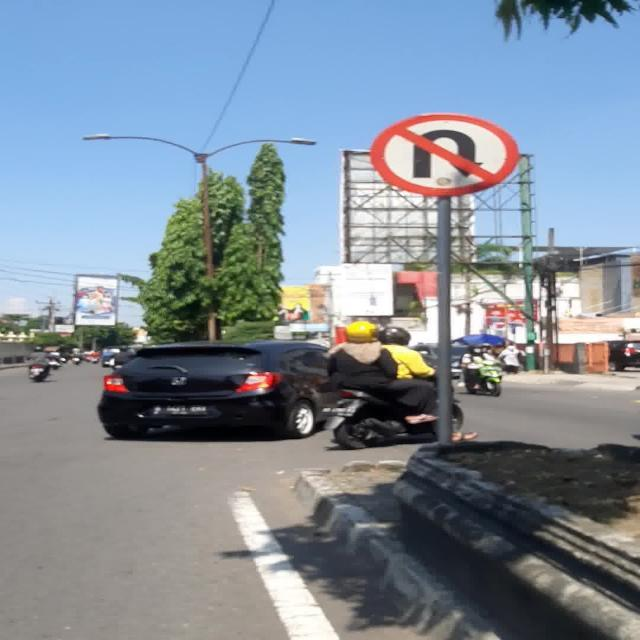Dilarang Putar Balik: (371, 114, 518, 196)
